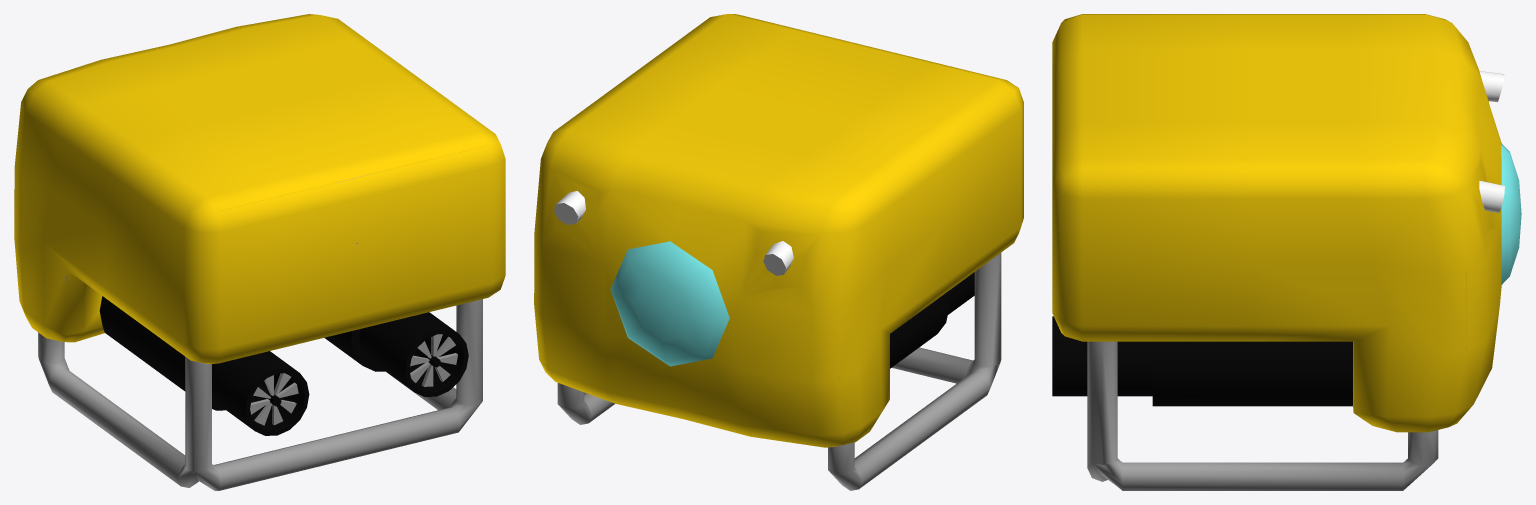
The model's file is Drone.fbx.
3 views of the same model, side by side, from view 1: azimuth 30°, elevation 25°; view 2: azimuth 150°, elevation 25°; view 3: azimuth 270°, elevation 25° (orthographic). The views are drawn at different scales.
Visible parts, largest first — view 1: DroneBody.003; view 2: DroneBody.003; view 3: DroneBody.003.
Part boxes in pixels (bbox=[...]): DroneBody.003: bbox=[14, 14, 505, 490]; DroneBody.003: bbox=[534, 14, 1023, 490]; DroneBody.003: bbox=[1052, 14, 1521, 490].
Bounding box in the file's own units: 400 × 365 × 468.
